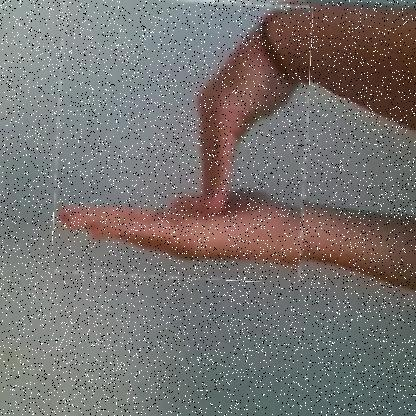Z: (53, 0, 309, 281)
